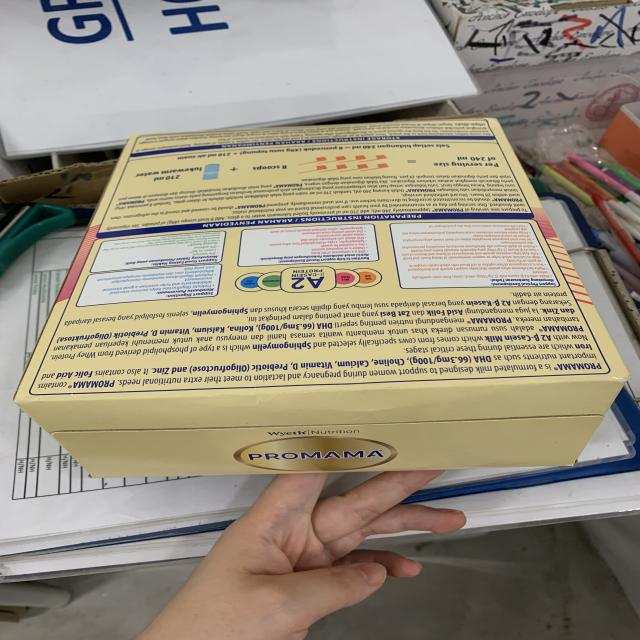object_name: (32, 137, 604, 467)
